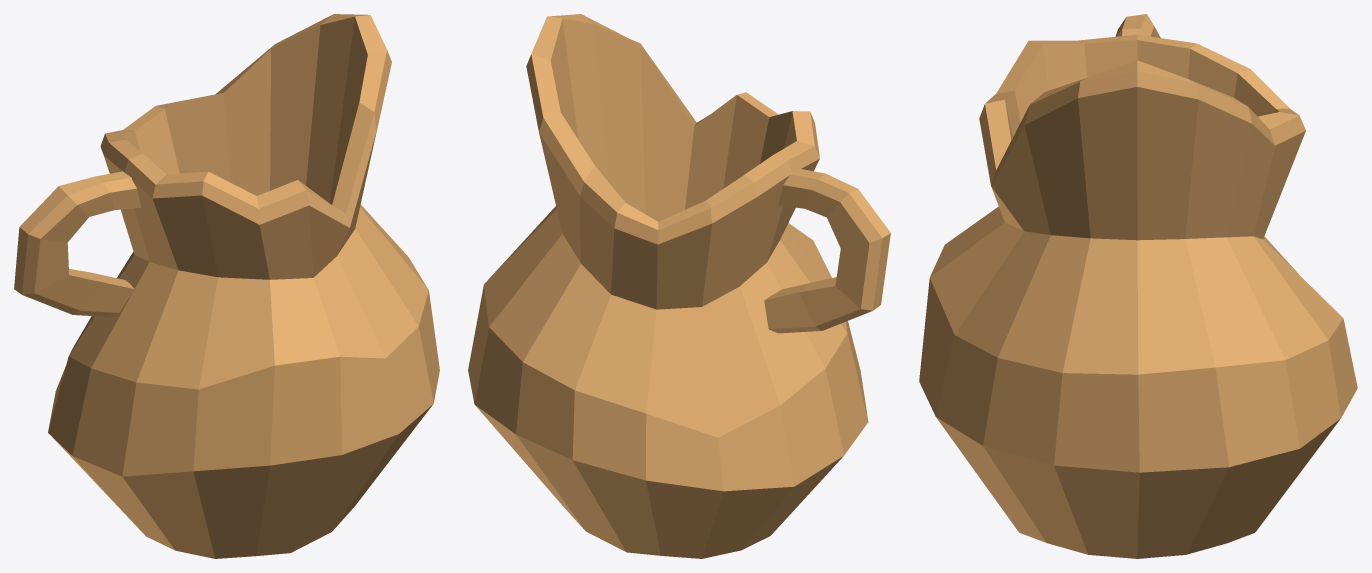
Rendered from Vase.fbx.
The picture shows the model from 3 angles, left to right: view 1: azimuth 30°, elevation 25°; view 2: azimuth 150°, elevation 25°; view 3: azimuth 270°, elevation 25°; orthographic projection. The views are drawn at different scales.
Parts seen in each view (by area): view 1: Cylinder.005; view 2: Cylinder.005; view 3: Cylinder.005.
Part boxes in pixels (bbox=[...]): Cylinder.005: bbox=[14, 14, 439, 558]; Cylinder.005: bbox=[468, 14, 890, 558]; Cylinder.005: bbox=[919, 14, 1357, 558].
Bounding box in the file's own units: 330 × 378 × 286.
